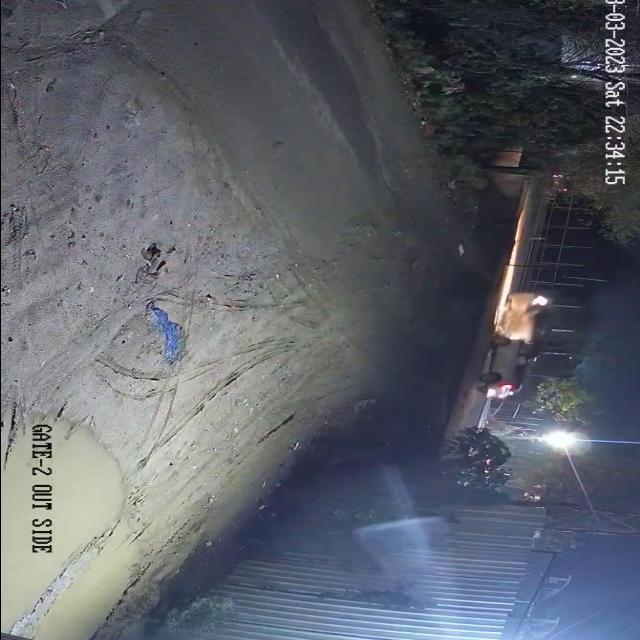accident: (473, 286, 559, 404)
